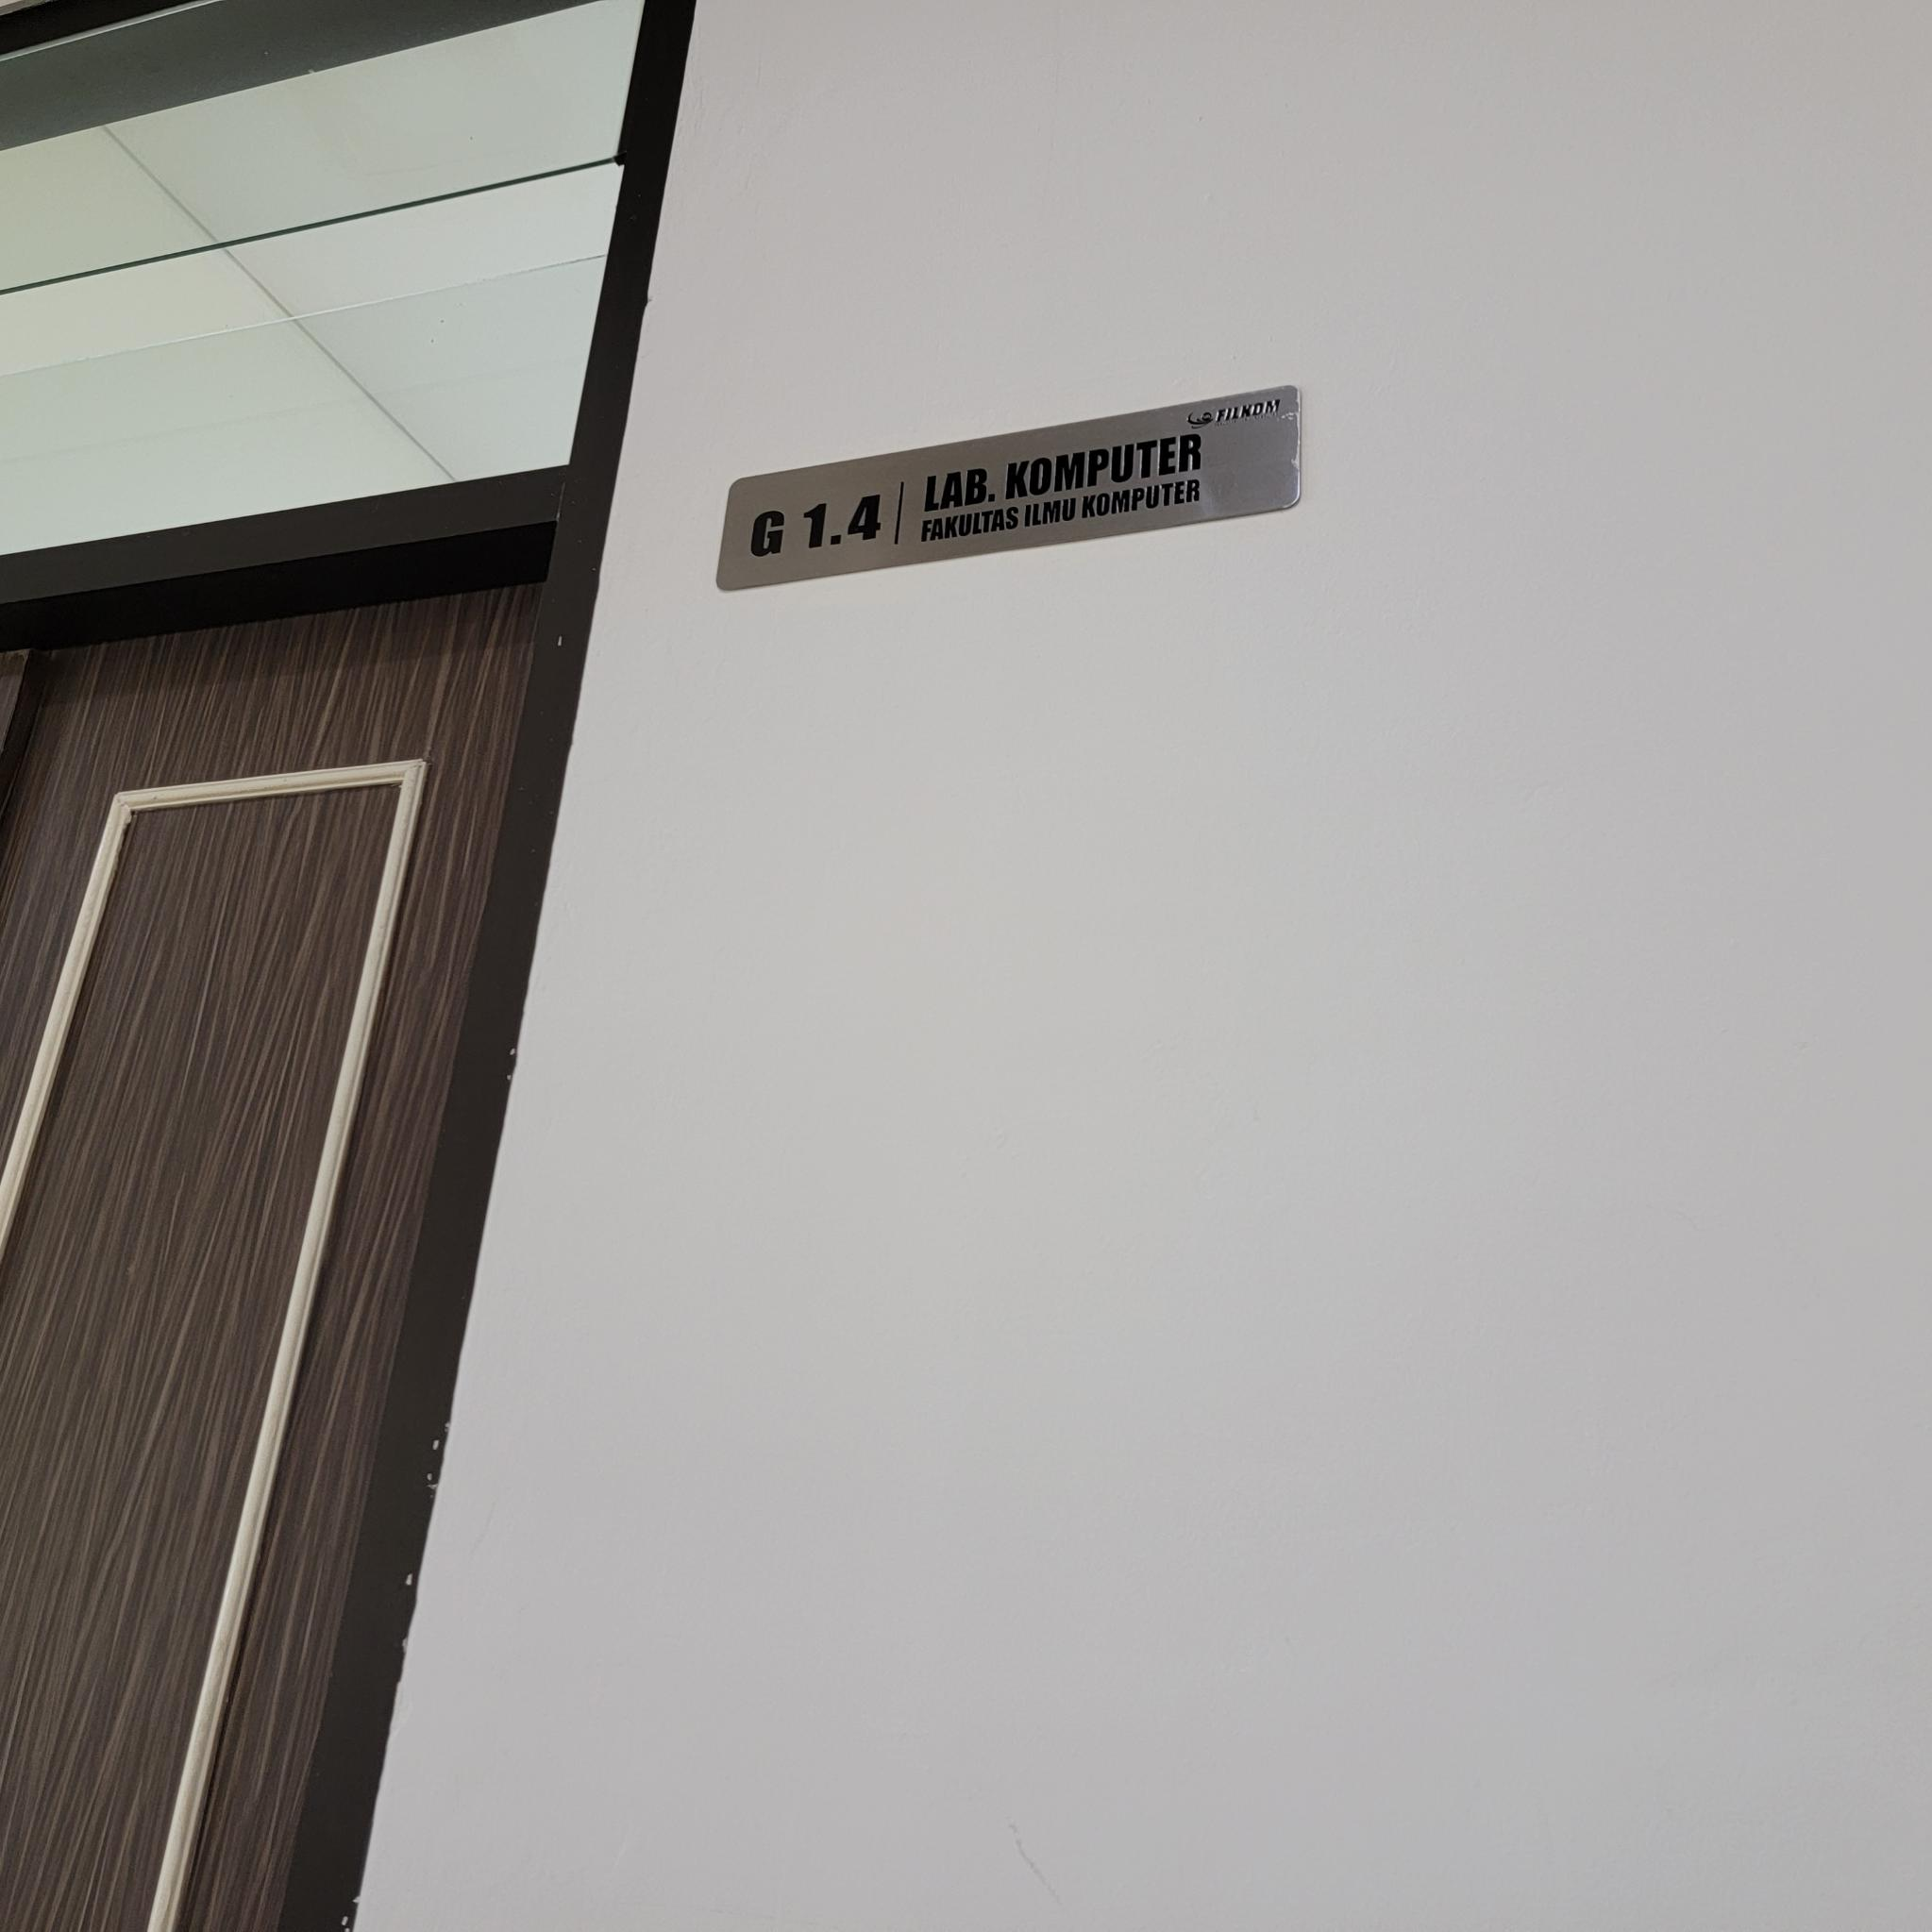plate: (715, 382, 1300, 591)
